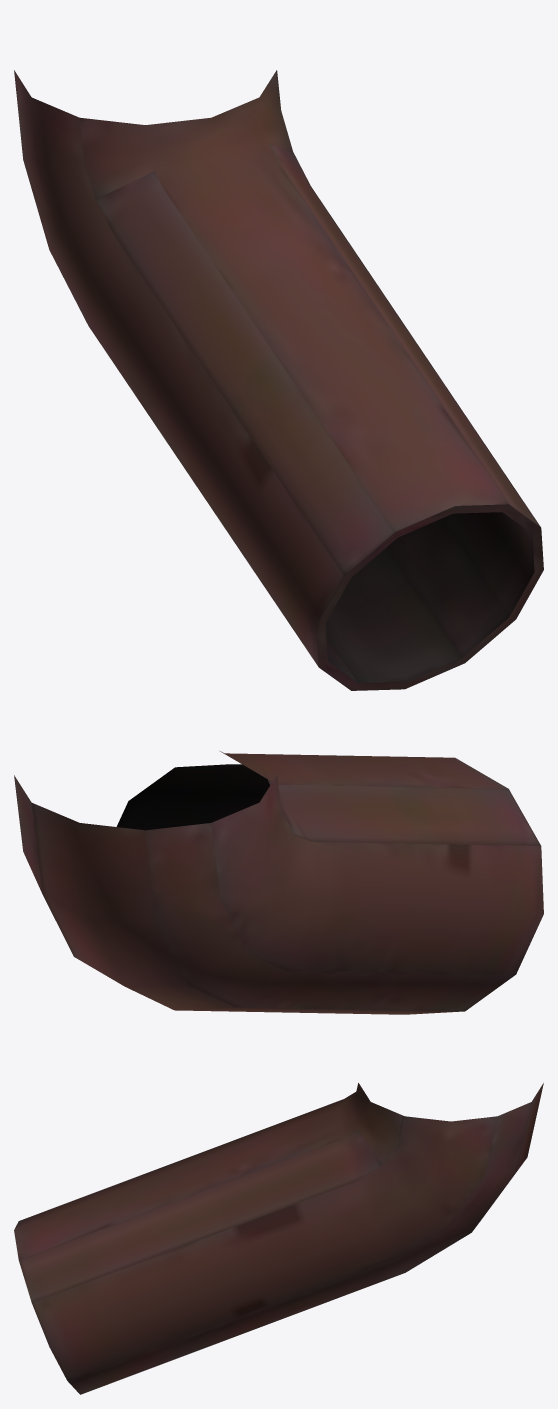
The picture shows the model from 3 angles, top to bottom: view 1: azimuth 30°, elevation 25°; view 2: azimuth 150°, elevation 25°; view 3: azimuth 270°, elevation 25°; orthographic projection. The views are drawn at different scales.
Parts seen in each view (by area): view 1: body0_model0_lod0_mesh0; view 2: body0_model0_lod0_mesh0; view 3: body0_model0_lod0_mesh0.
Part boxes in pixels (x1,y1,x2,y2): body0_model0_lod0_mesh0: (14, 70, 543, 690); body0_model0_lod0_mesh0: (14, 751, 543, 1014); body0_model0_lod0_mesh0: (14, 1083, 543, 1394).
Bounding box in the file's own units: 12 × 21.64 × 34.26.
Materials: 1 (1 with a texture image).
